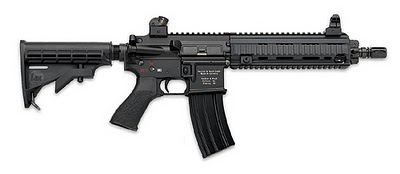gun: (12, 13, 392, 162)
